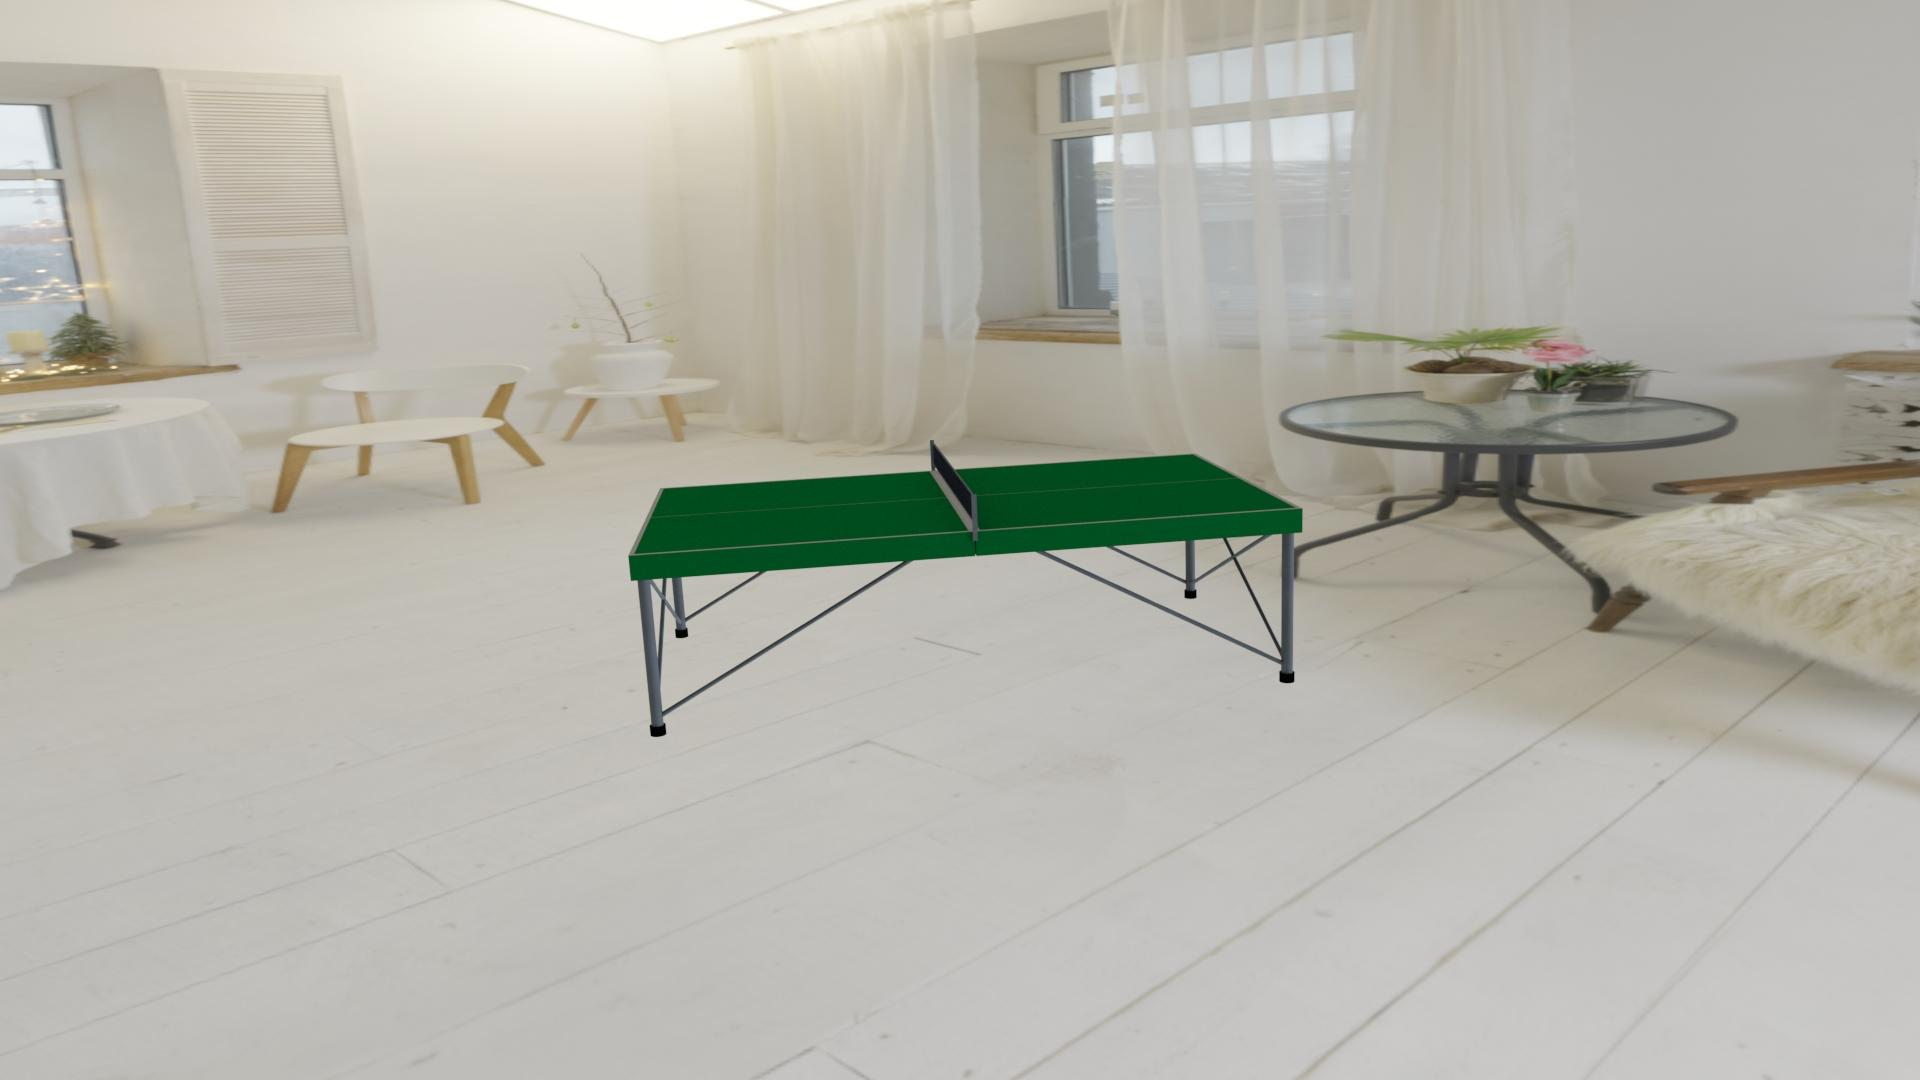table: (634, 454, 1296, 554)
